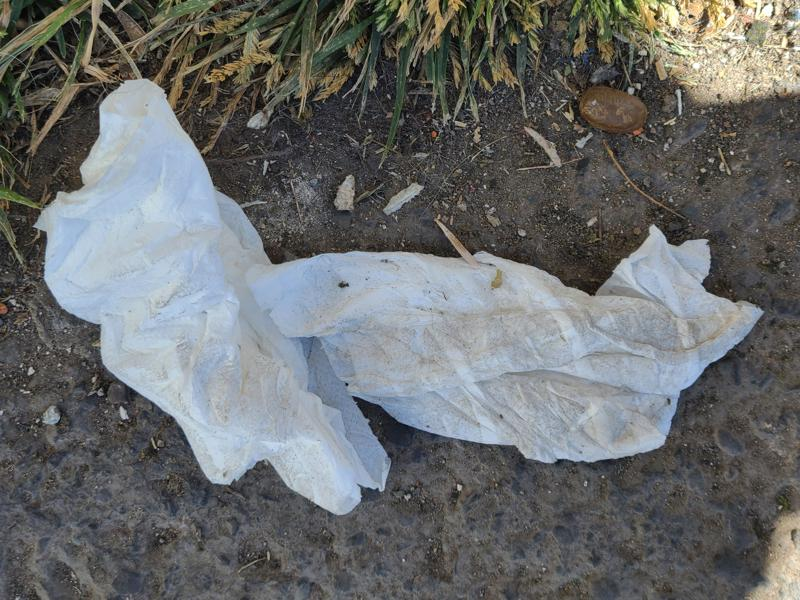papel: (35, 80, 764, 517)
